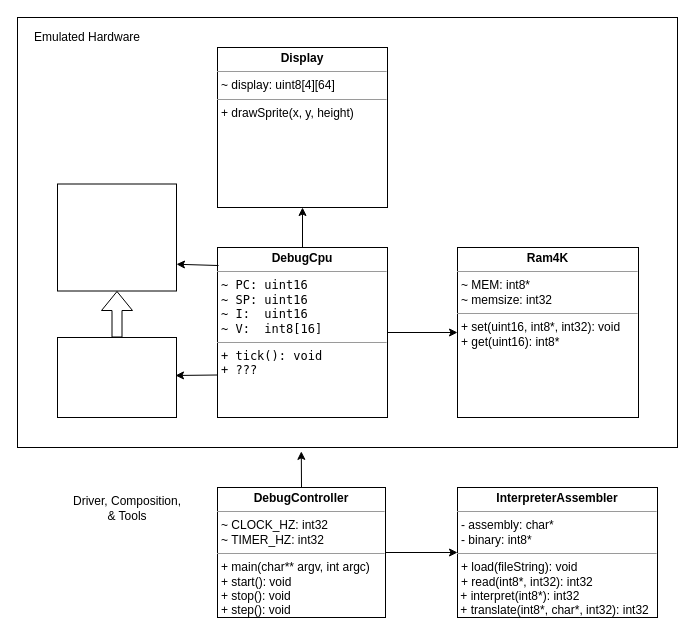
This 695x635 diagram has some shape labels left out. Here are the shapes that lost their labels. From the top down, the box of each, then its label:
(56, 183, 176, 291): Timer - timer: int8 + set(int8): void + read(): int8 + countdown(): void
(56, 336, 176, 418): SoundTimer +countdown(): void
